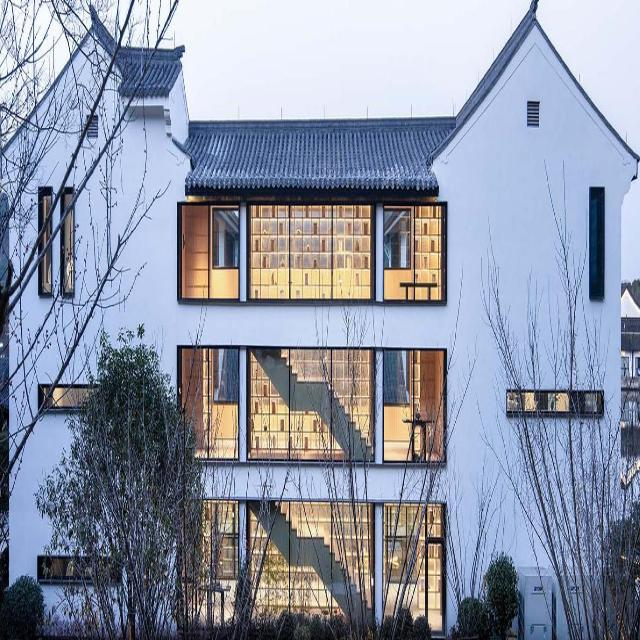plant: (38, 326, 209, 624), (458, 553, 520, 622)
wall: (0, 0, 639, 636)
windows: (177, 346, 447, 460), (205, 508, 446, 623), (184, 207, 447, 299), (510, 392, 604, 413), (590, 185, 604, 297), (45, 387, 96, 407), (68, 192, 76, 293), (45, 197, 53, 292)
